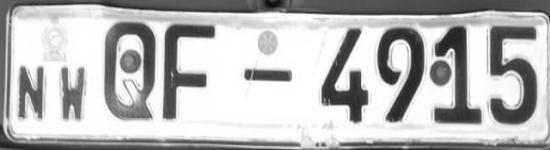-: (238, 60, 297, 88)
1: (427, 18, 485, 135)
4: (310, 21, 372, 132)
5: (485, 16, 542, 135)
9: (373, 21, 428, 132)
F: (160, 20, 221, 125)
N: (15, 58, 46, 124)
Q: (100, 18, 158, 127)
W: (56, 64, 90, 124)
